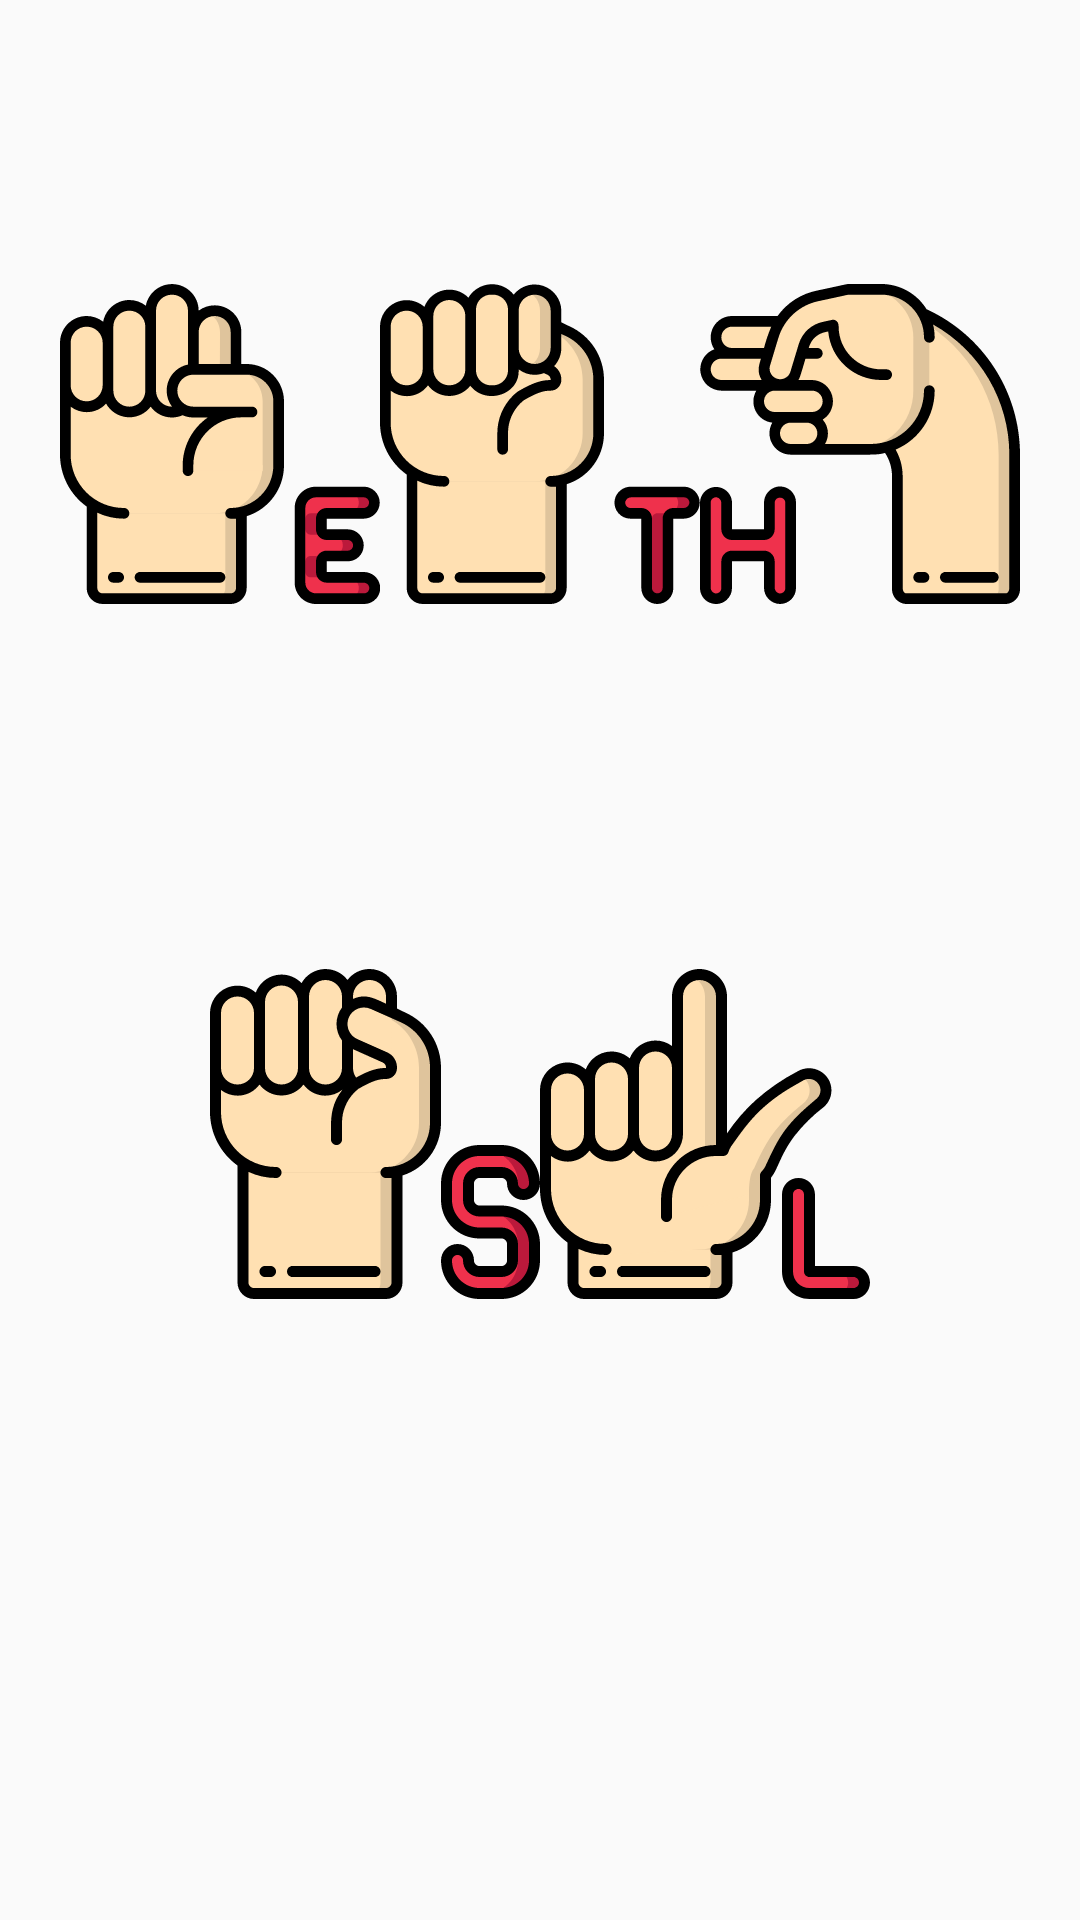

Icons on this 1080*1920 Android screen, each with its box as (x1, y1, x2, y2):
sign language: (60, 284, 380, 604), (380, 284, 604, 604), (700, 284, 1020, 604), (210, 969, 441, 1299), (540, 969, 870, 1299)
